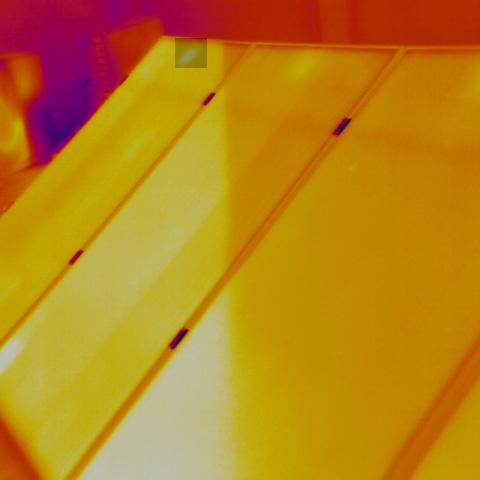fault: (176, 38, 208, 68)
